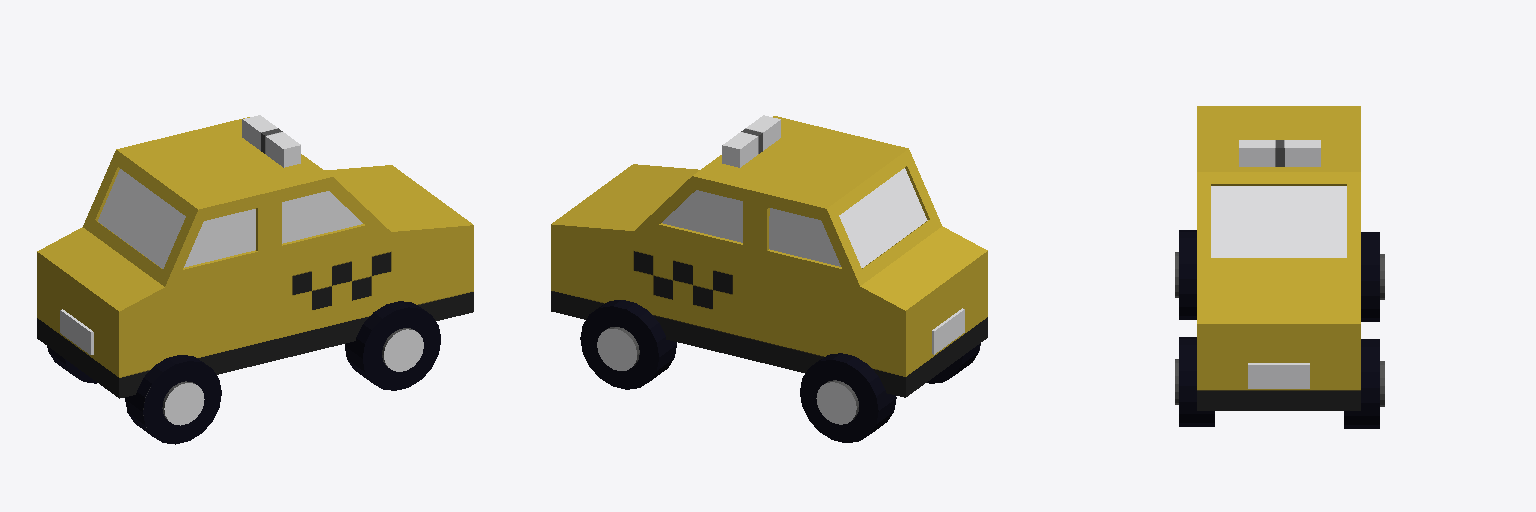
3 renders of one model, left to right at view 1: azimuth 30°, elevation 25°; view 2: azimuth 150°, elevation 25°; view 3: azimuth 270°, elevation 25°, orthographic.
Parts seen in each view (by area): view 1: Box070; view 2: Box070; view 3: Box070.
Boxes of the visible parts, box(x1,y1,x2,y2) form: Box070: box(37, 115, 473, 444); Box070: box(551, 115, 987, 442); Box070: box(1175, 106, 1384, 428).
Bounding box in the file's own units: 285 × 180 × 143.
1 materials, 1 textured.